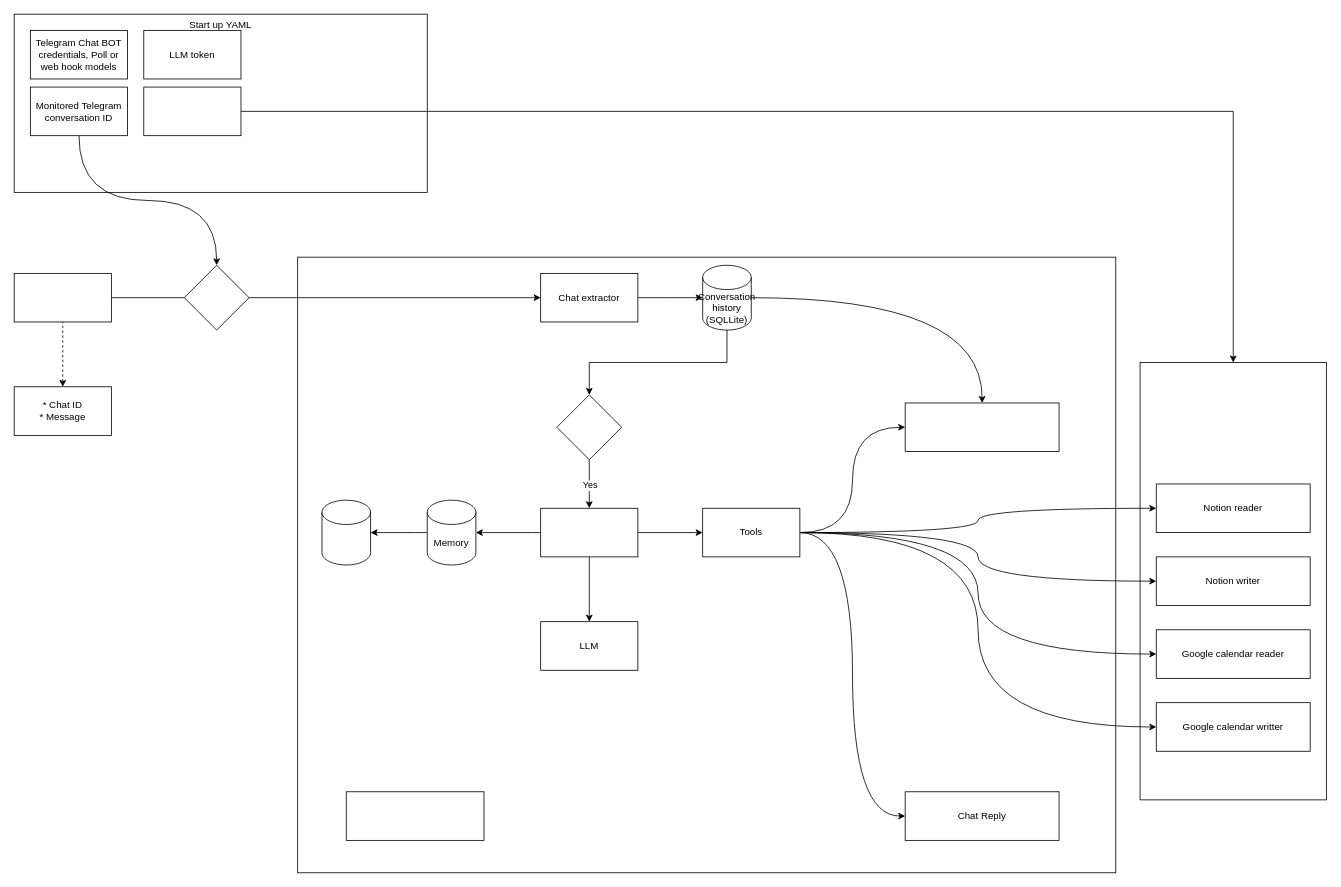
Some shapes in this 1341 by 887 pixel diagram are drawn without their labels. Each missing label, with the centre of its shape:
A command to agent?: the point at 589,427
Agent process: the point at 589,532
Conversation Context Manager: the point at 981,427
Is allowed conversation ID: the point at 216,297
Per conversation: the point at 414,815
Telegram: the point at 62,297
Tooling credentials: the point at 192,111
Vector DB: the point at 346,532
